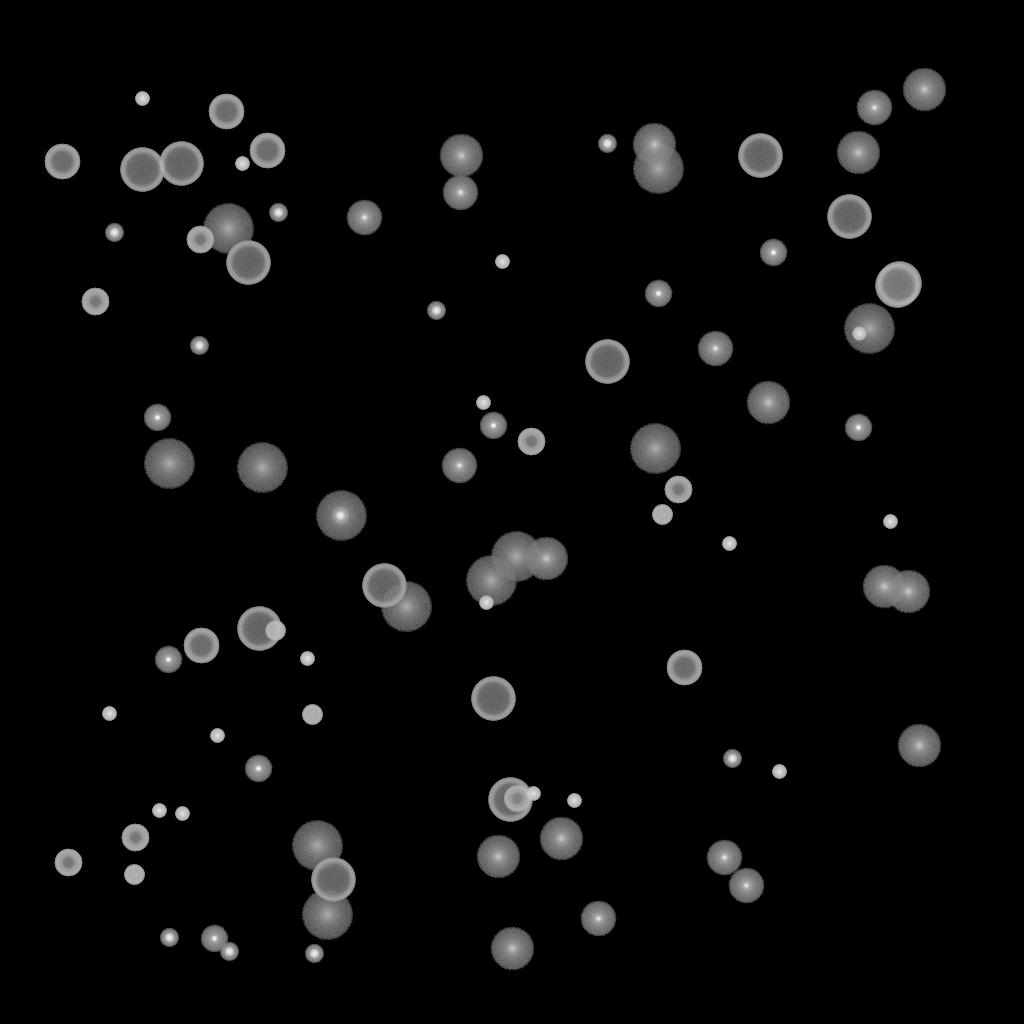depth:-10: (200, 925, 228, 953), (479, 412, 507, 440), (759, 239, 787, 267), (154, 646, 182, 674), (143, 404, 171, 432), (644, 280, 672, 308), (244, 755, 272, 783), (844, 414, 872, 442)
depth:-20: (160, 929, 178, 947), (220, 943, 238, 961), (105, 224, 123, 242), (427, 302, 445, 320), (598, 135, 616, 153), (305, 945, 323, 963), (190, 337, 208, 355), (269, 204, 287, 222), (331, 507, 349, 525), (723, 750, 741, 768)
depth:-30: (300, 652, 314, 666), (567, 794, 581, 808), (772, 765, 786, 779), (479, 596, 493, 610), (852, 327, 866, 341), (152, 804, 166, 818), (722, 537, 736, 551), (210, 729, 224, 743), (526, 787, 540, 801), (476, 396, 490, 410), (235, 157, 249, 171), (883, 515, 897, 529), (495, 255, 509, 269), (175, 807, 189, 821), (102, 707, 116, 721), (135, 92, 149, 106)
depth:-40: (124, 865, 144, 885), (302, 705, 322, 725), (652, 505, 672, 525), (265, 621, 285, 641)
depth:-50: (81, 288, 109, 316), (54, 849, 82, 877), (186, 226, 214, 254), (121, 824, 149, 852), (664, 476, 692, 504), (503, 785, 531, 813), (517, 428, 545, 456)
depth:-60: (44, 144, 80, 180), (666, 650, 702, 686), (249, 133, 285, 169), (208, 94, 244, 130), (183, 628, 219, 664)
depth:-70: (488, 778, 532, 822), (877, 262, 921, 306), (311, 858, 355, 902), (585, 340, 629, 384), (237, 607, 281, 651), (827, 195, 871, 239), (875, 264, 919, 308), (738, 134, 782, 178), (120, 148, 164, 192), (471, 677, 515, 721), (159, 142, 203, 186), (226, 241, 270, 285), (362, 564, 406, 608)
depth:0: (580, 901, 616, 937), (346, 200, 382, 236), (728, 868, 764, 904), (706, 840, 742, 876), (442, 175, 478, 211), (697, 331, 733, 367), (441, 448, 477, 484), (856, 90, 892, 126)
depth:10: (524, 537, 568, 581), (539, 817, 583, 861), (886, 570, 930, 614), (897, 724, 941, 768), (476, 835, 520, 879), (490, 927, 534, 971), (836, 131, 880, 175), (632, 123, 676, 167), (902, 68, 946, 112), (746, 381, 790, 425), (862, 565, 906, 609), (439, 134, 483, 178)
depth:20: (202, 204, 254, 254), (490, 532, 542, 582), (143, 439, 195, 489), (236, 443, 288, 493), (301, 890, 353, 940), (632, 144, 684, 194), (380, 582, 432, 632), (629, 424, 681, 474), (315, 491, 367, 541), (465, 556, 517, 606), (843, 304, 895, 354), (291, 821, 343, 871)
